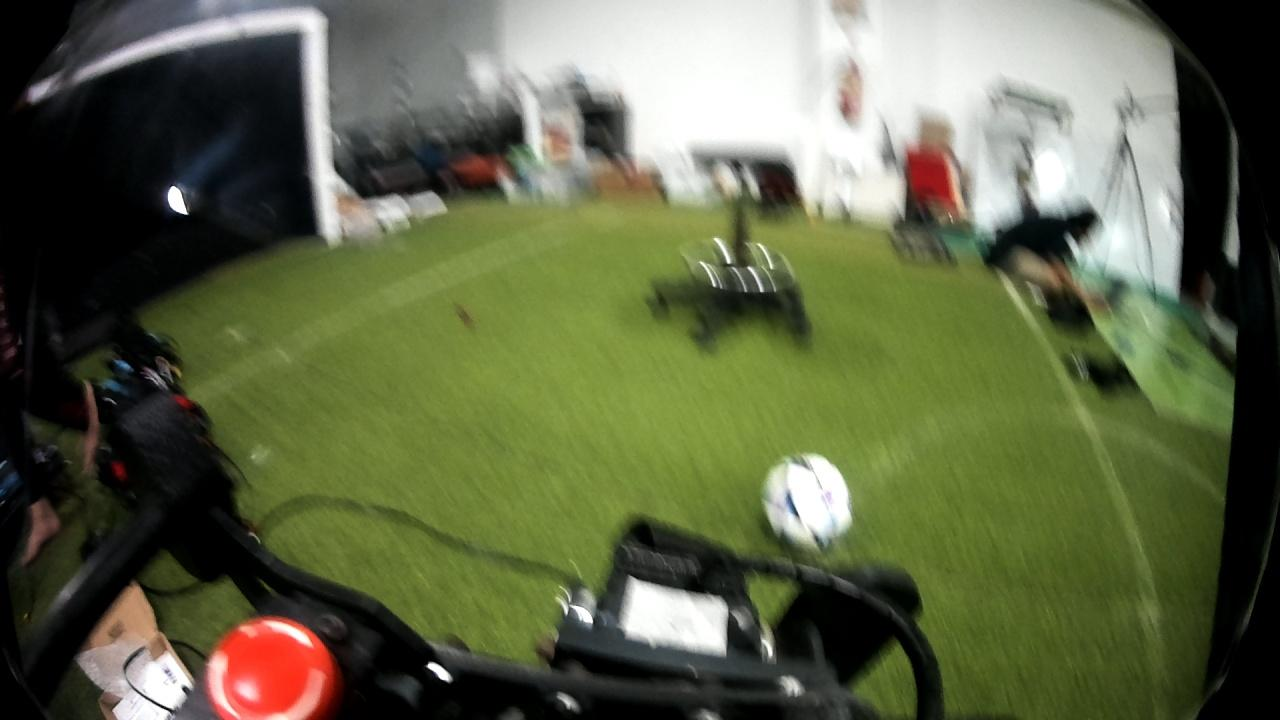ball: (749, 443, 865, 555)
